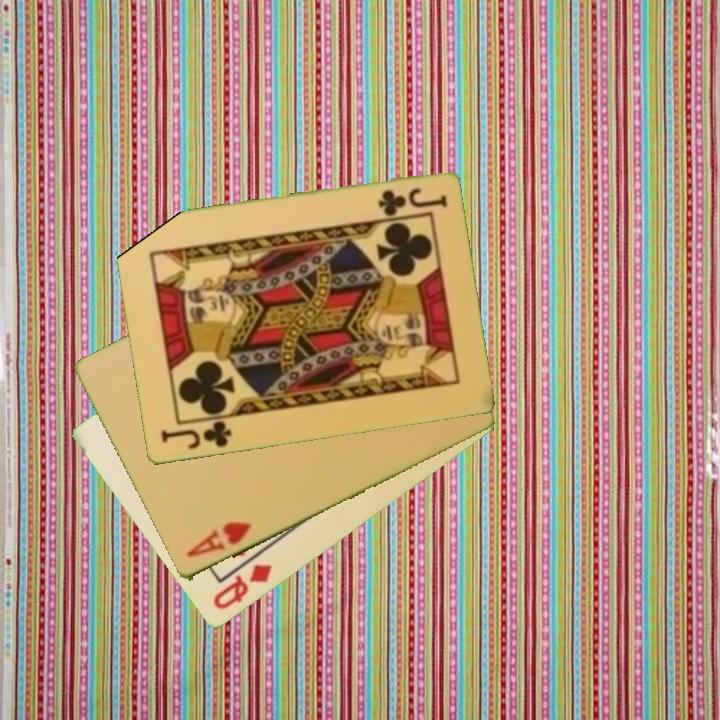Ah: (183, 518, 255, 561)
Jc: (156, 417, 235, 453), (374, 185, 450, 218)
Qd: (209, 560, 275, 614)
